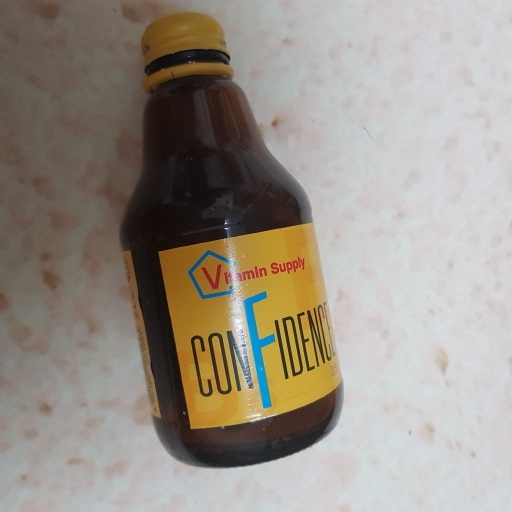Glass_3: (123, 7, 349, 472)
